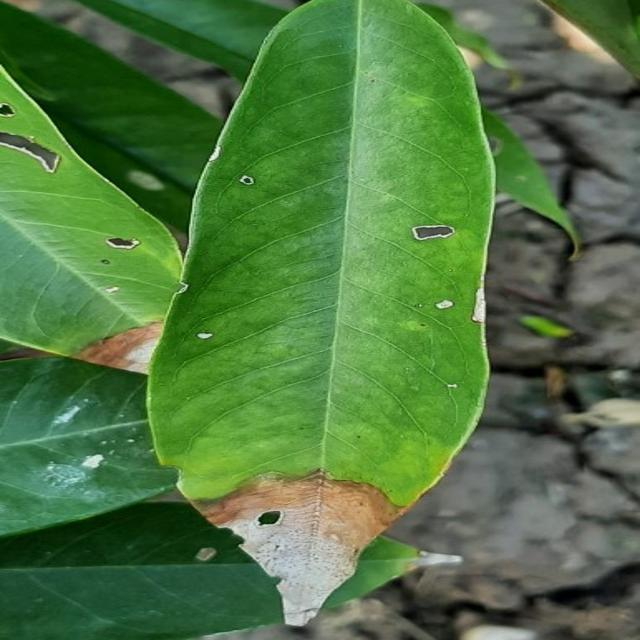Leaf Blight: (147, 6, 518, 635)
